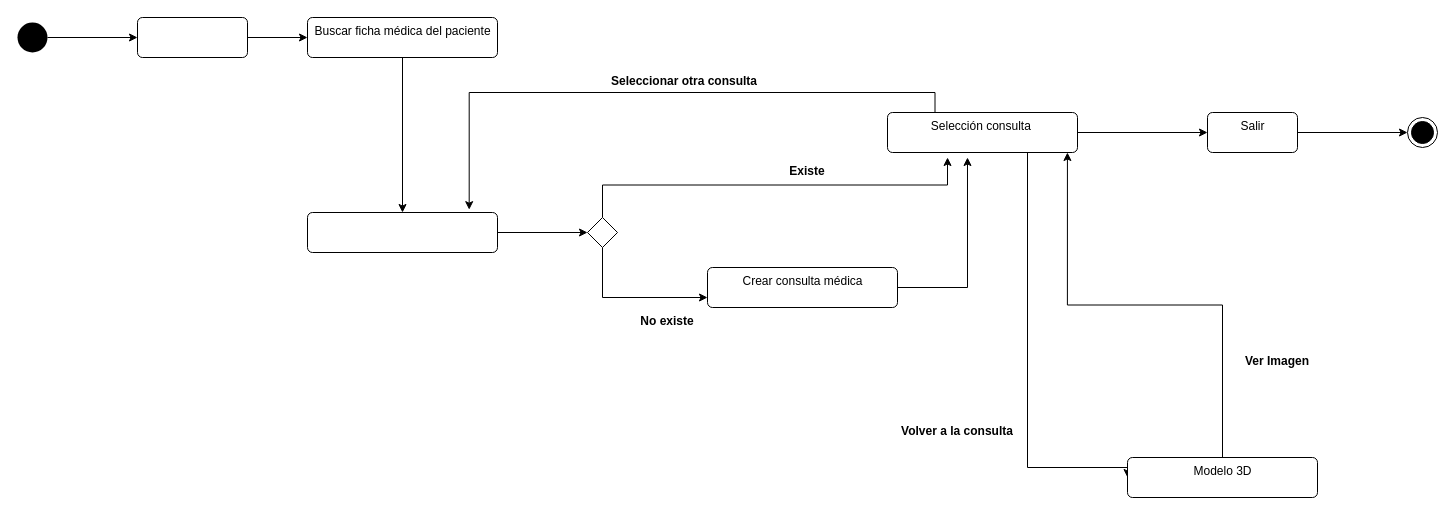
Image size: 1455x515. Some labels were removed from this diagram. The box of each missing label's shape, as (x1, y1, x2, y2) in pixels:
Consulta médica: (306, 212, 498, 252)
Validar usuario: (136, 16, 248, 58)
